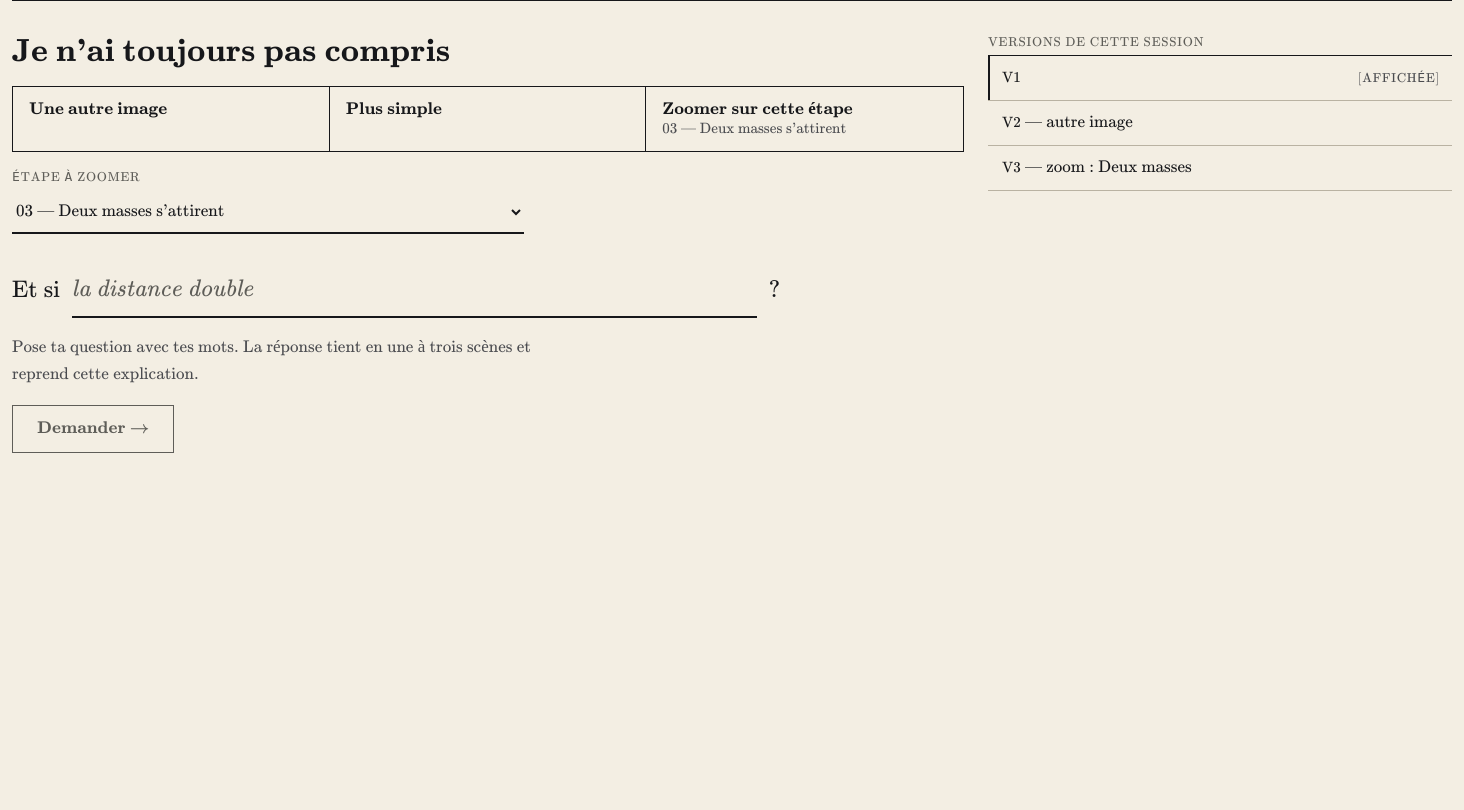
Test case: ReformulatePanel › disables every control while the request is being made, with the reason
Click the button "Plus simple" at (394, 108), box [330,87,646,151]
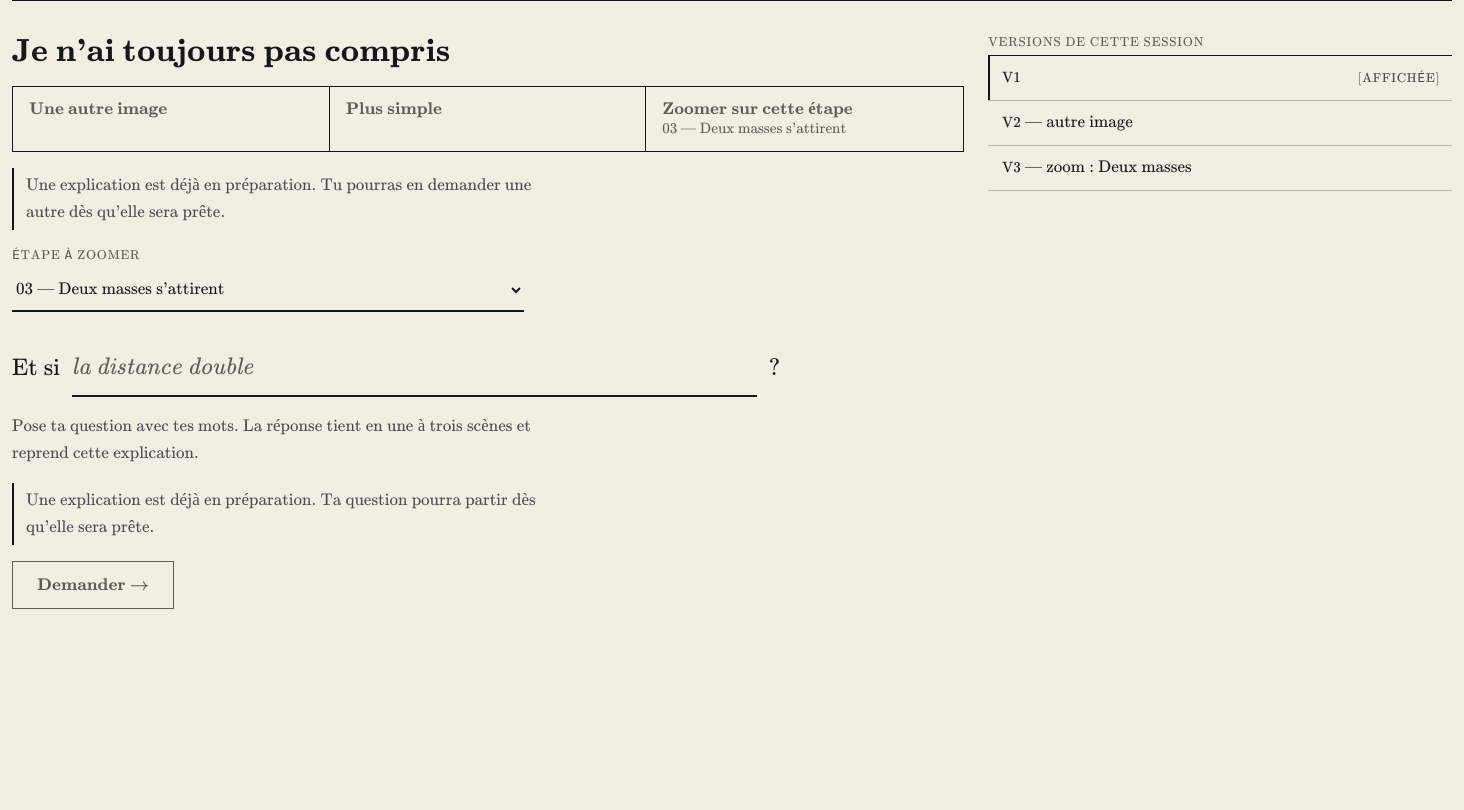
Expected: the button "Une autre image" is disabled, [13,87,330,151]
Expected: the button "Zoomer sur cette étape 03 — Deux masses s'attirent" is disabled, [646,87,963,151]
Expected: the text "Une explication est déjà en préparation. Tu pourras en demander une autre dès qu’elle sera prête." is shown, [26,175,531,222]
